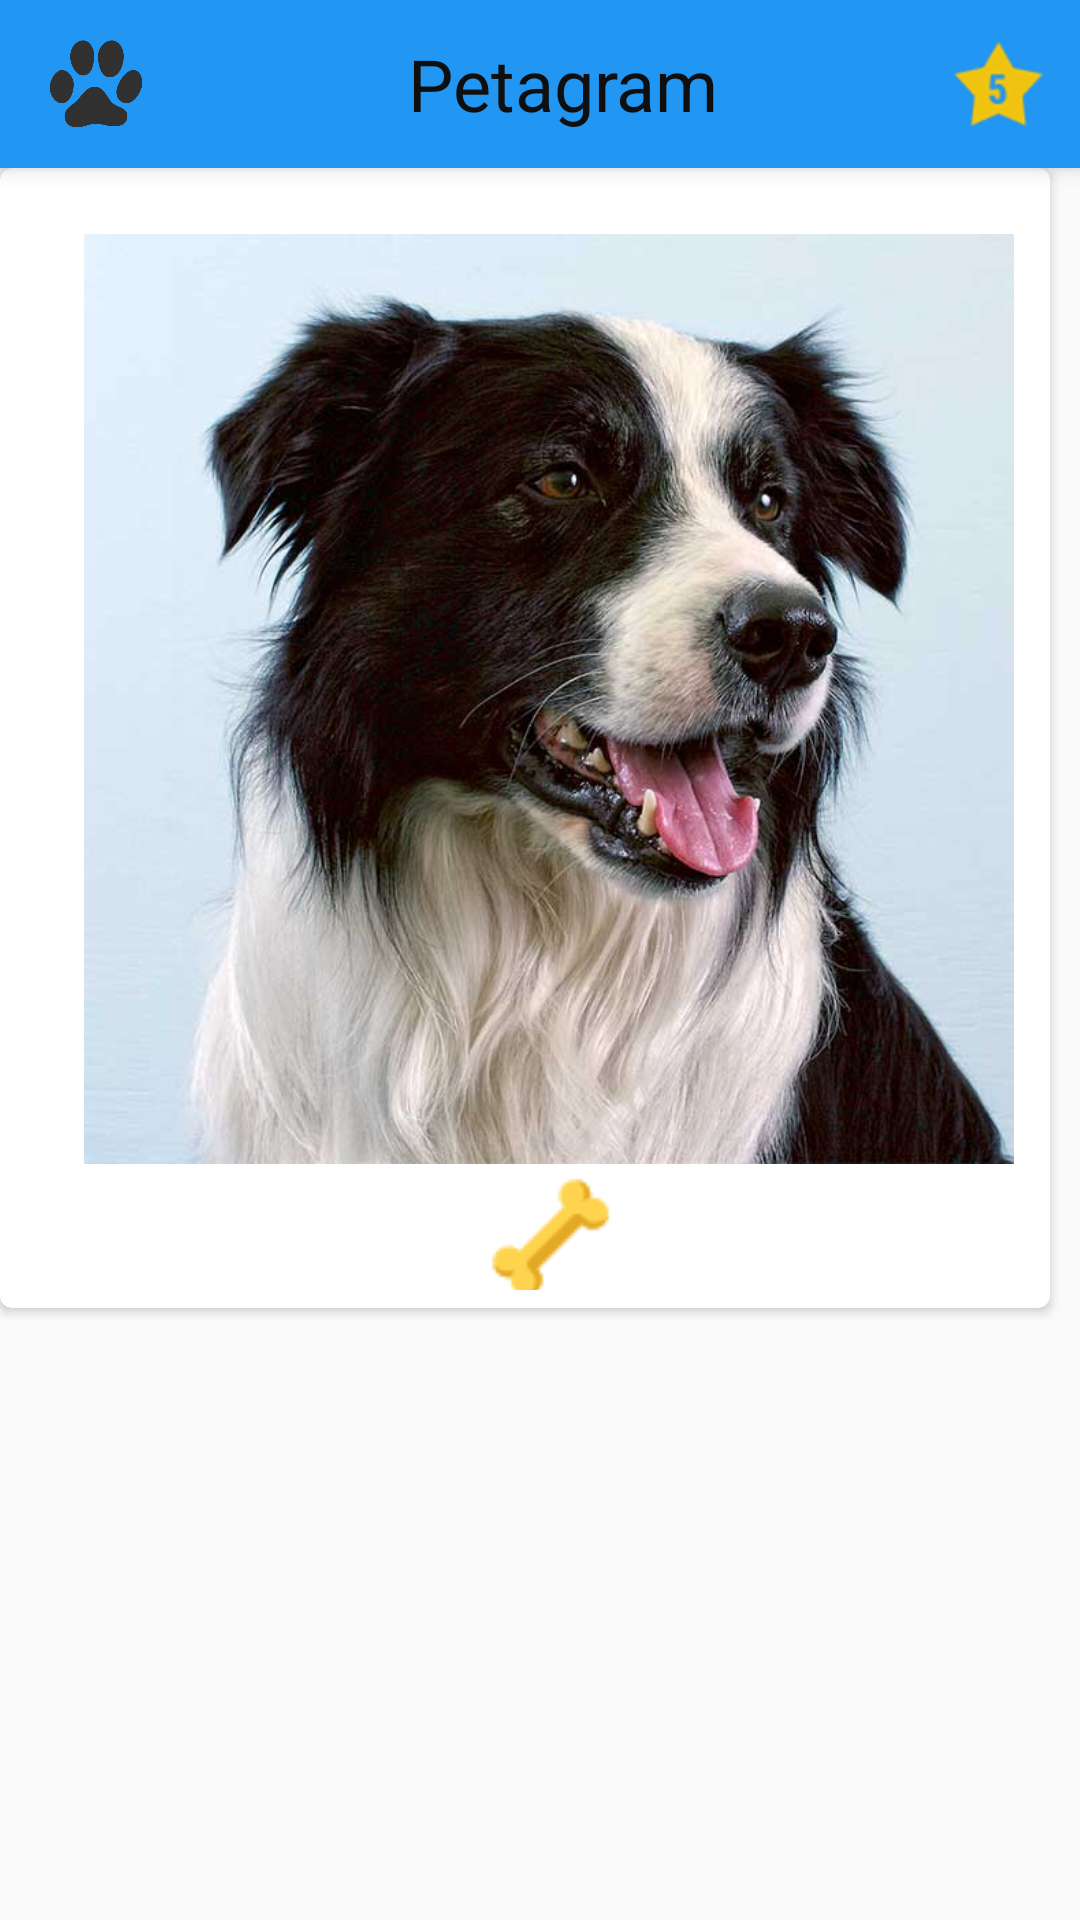

Named icons in this screenshot (1080*1920) and their centers, (x,y):
fav: (998,84)
huella: (96,83)
